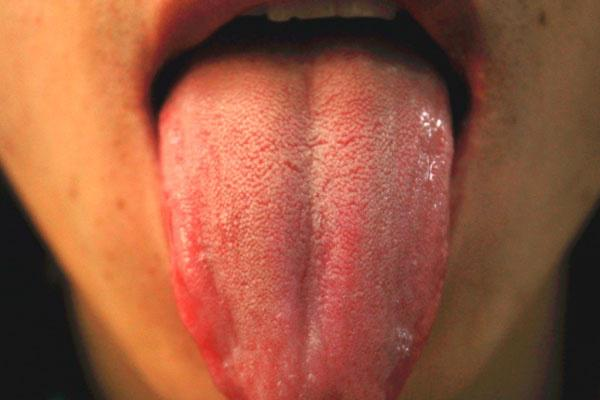baitaishe: (158, 45, 454, 400)
hongshe: (158, 45, 454, 400)
